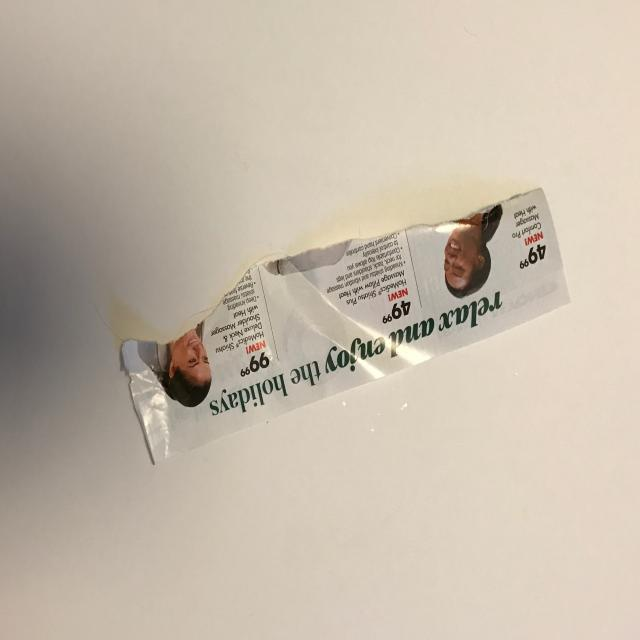paper: (111, 169, 586, 489)
